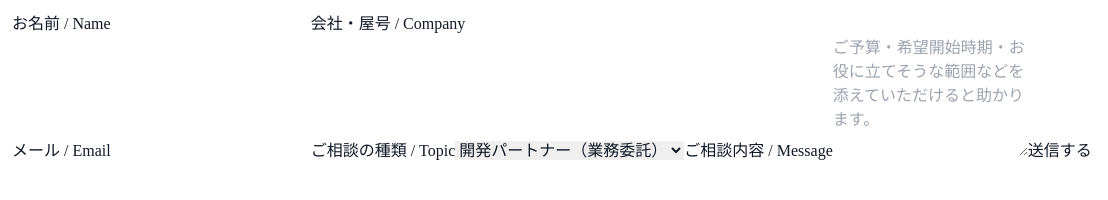
Scenario: Phase 6: ContactForm — submission › shows an API error message when the server rejects the submission
Type "x" into the field labelled "お名前 / Name" at (211, 24), box x1=111 y1=12 x2=311 y2=36
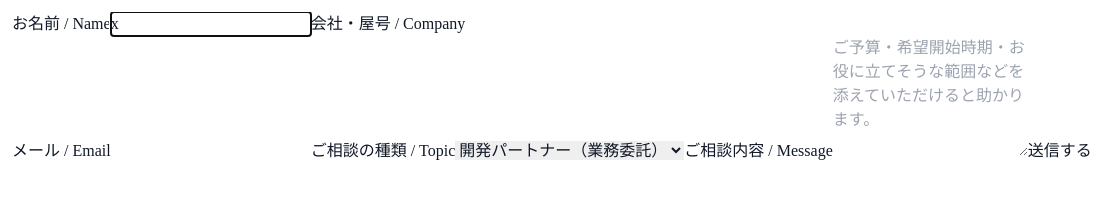
Type "a@b.co" into the field labelled "メール / Email" at (211, 151), box x1=111 y1=139 x2=311 y2=163
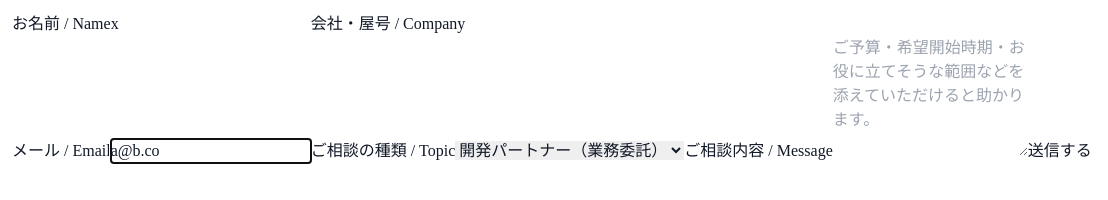
Type "hi" into the text box labelled "ご相談内容 / Message" at (930, 96), box x1=833 y1=36 x2=1028 y2=156
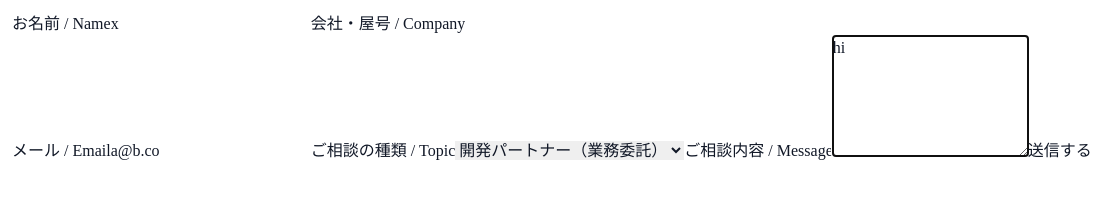
Click the button "送信する" at (1060, 151), box x1=1028 y1=139 x2=1092 y2=163
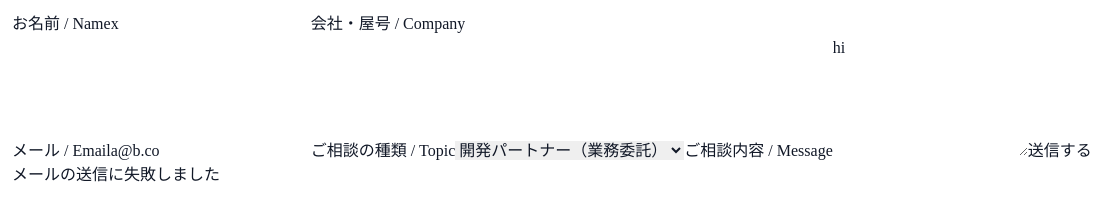
Result: the message shows "送信に失敗" at x1=12 y1=166 x2=220 y2=183
